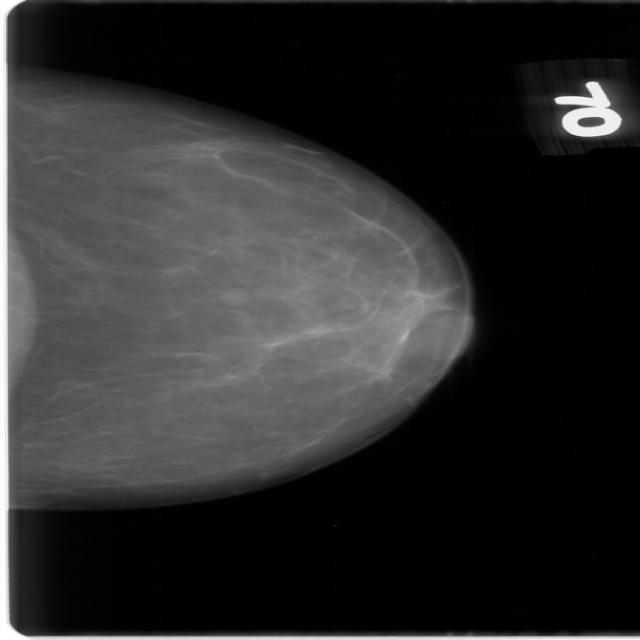tumour: (216, 286, 248, 306)
